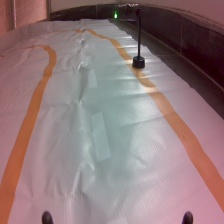green: (111, 3, 147, 71)
